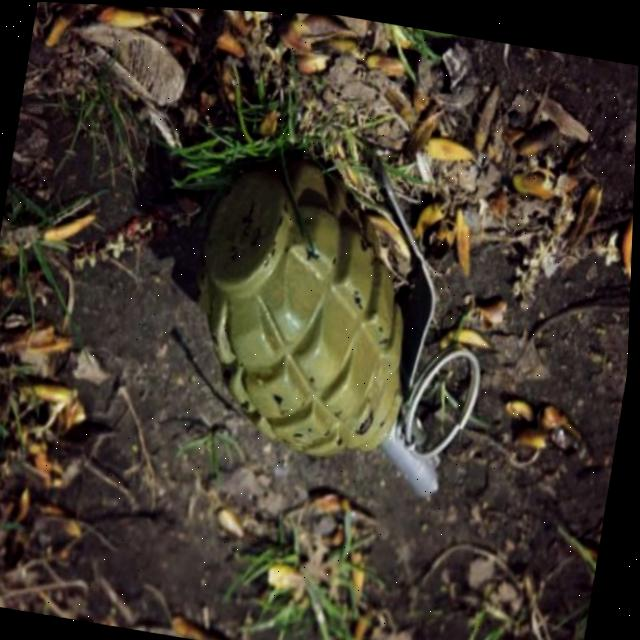grenade: (162, 145, 526, 532)
